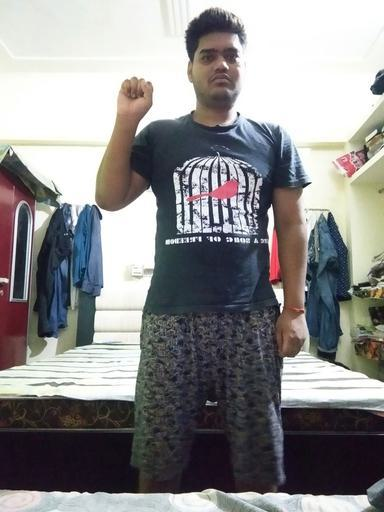fist: (114, 75, 155, 120)
